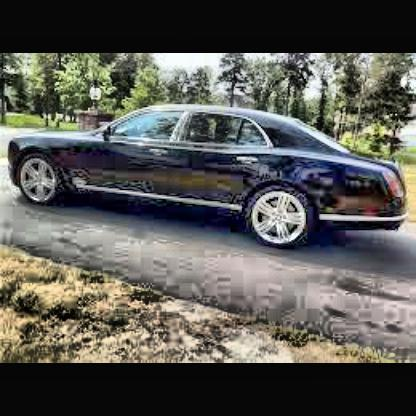Bentley Mulsanne Sedan 2011: (10, 103, 410, 258)
